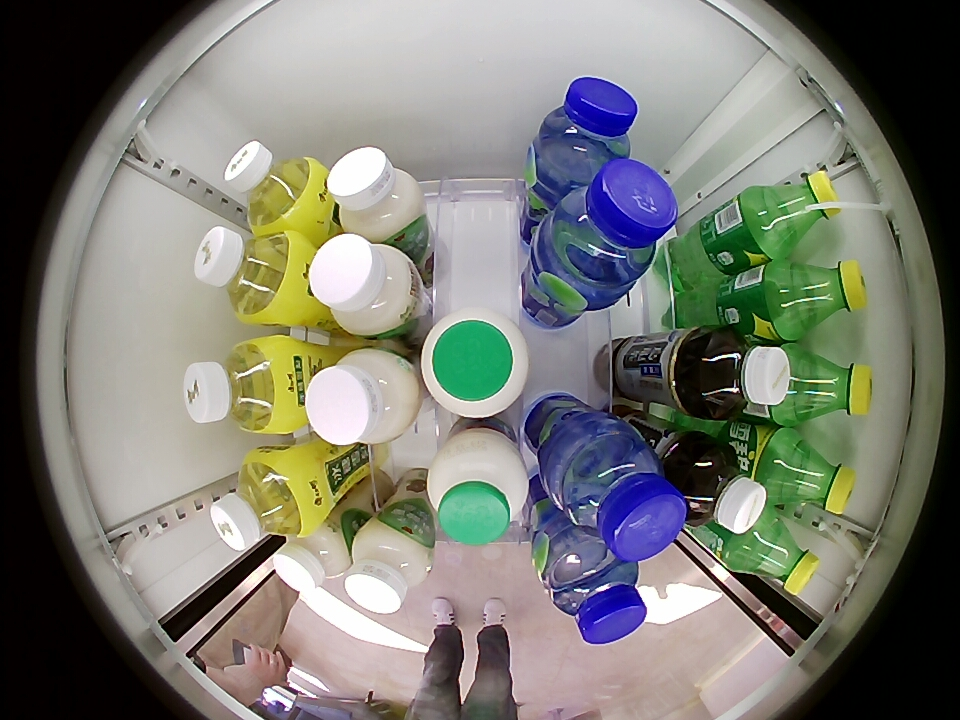bingtangxueli: (183, 336, 303, 435), (194, 226, 306, 325), (209, 449, 317, 551), (223, 141, 323, 234)
liziyuan: (428, 428, 532, 547), (421, 311, 528, 418)
maidong: (543, 158, 679, 293), (555, 431, 687, 563), (542, 535, 648, 646), (535, 77, 639, 184)
wulongcha: (692, 328, 790, 419), (675, 440, 768, 534)
xuebi-b: (773, 434, 856, 515), (758, 170, 841, 251), (739, 515, 819, 596), (790, 348, 873, 423), (782, 259, 866, 333)
yousuanru: (309, 232, 419, 339), (306, 346, 420, 448), (327, 146, 426, 243), (346, 518, 434, 614), (273, 521, 351, 594)
